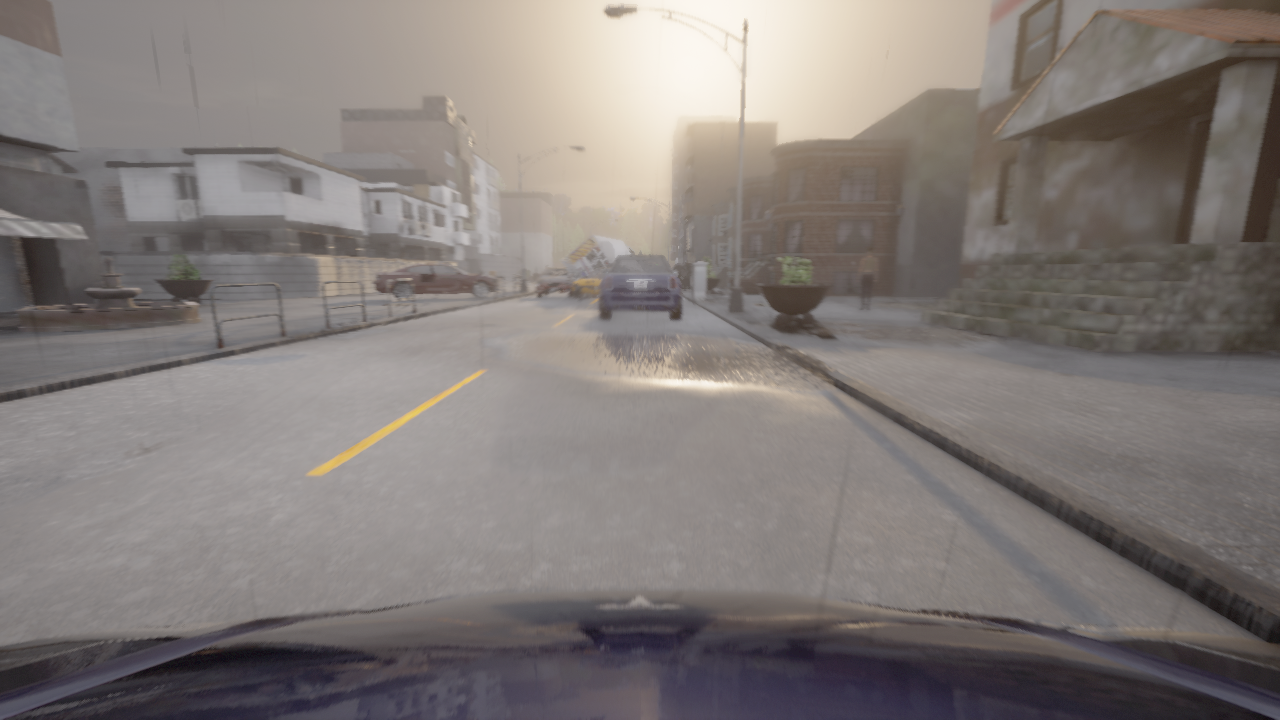cyclist: (0, 588, 1279, 719), (599, 253, 681, 318), (373, 262, 500, 298), (560, 234, 632, 296), (627, 246, 691, 289), (571, 263, 612, 299), (535, 267, 574, 297)
pedestrian: (857, 246, 877, 310)
